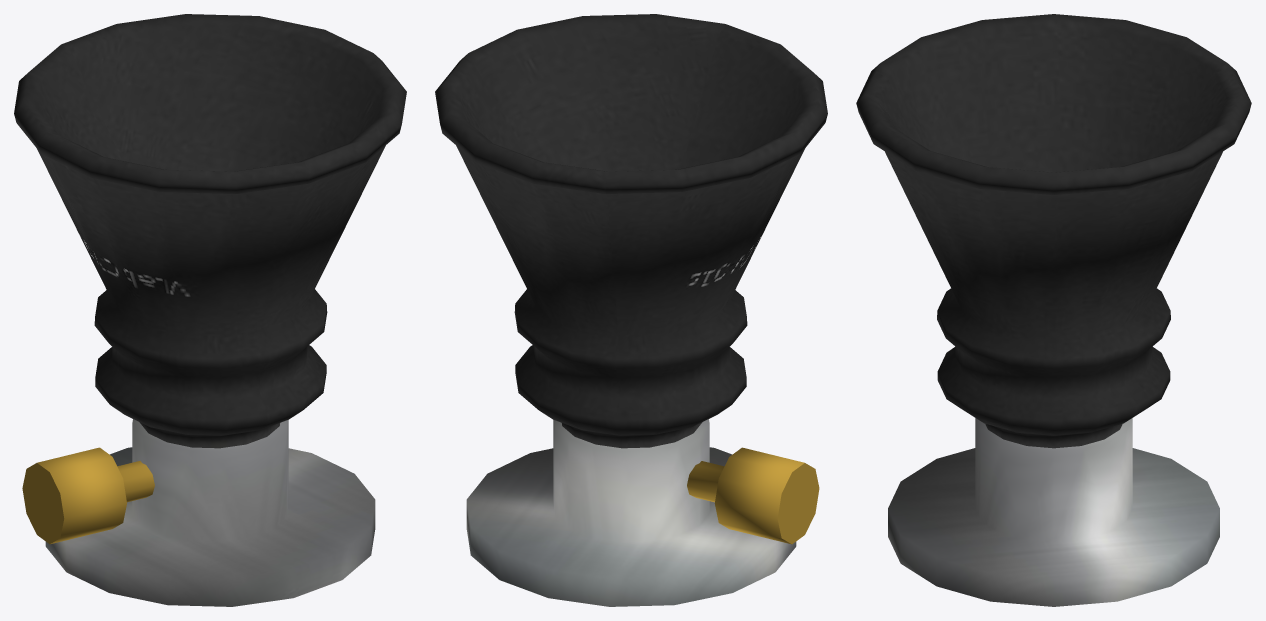
Rendered from kuka-vacuum-gripper.dae.
3 renders of one model, left to right at view 1: azimuth 30°, elevation 25°; view 2: azimuth 150°, elevation 25°; view 3: azimuth 270°, elevation 25°, orthographic.
Parts seen in each view (by area): view 1: kukaVacuumGripper, gripperPlug; view 2: kukaVacuumGripper, gripperPlug; view 3: kukaVacuumGripper.
Boxes of the visible parts, x1=… form: kukaVacuumGripper: x1=14, y1=14, x2=406, y2=606; gripperPlug: x1=22, y1=447, x2=154, y2=544; kukaVacuumGripper: x1=435, y1=14, x2=827, y2=606; gripperPlug: x1=687, y1=447, x2=819, y2=544; kukaVacuumGripper: x1=856, y1=14, x2=1251, y2=606.
Bounding box in the file's own units: 0.8308 × 0.8308 × 1.03.
2 materials, 1 textured.
